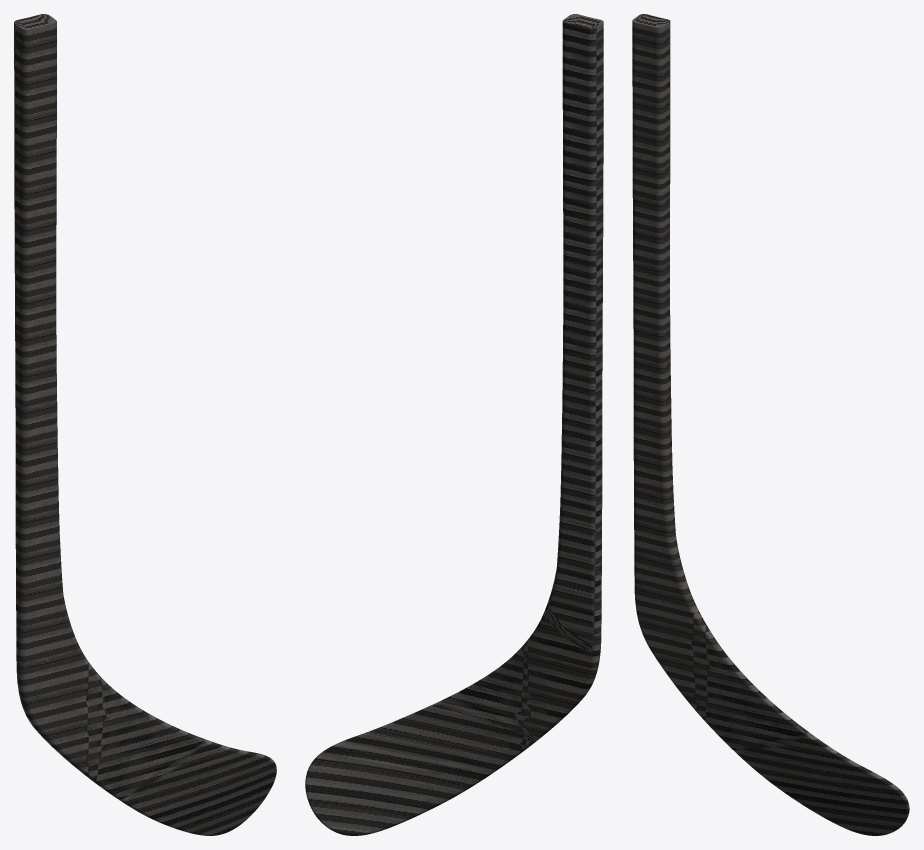
The model's file is P87-SBT.glb.
3 views of the same model, side by side, from view 1: azimuth 30°, elevation 25°; view 2: azimuth 150°, elevation 25°; view 3: azimuth 330°, elevation 25° (orthographic). The views are drawn at different scales.
Visible parts, largest first — view 1: geometry_0; view 2: geometry_0; view 3: geometry_0.
Part boxes in pixels (left/top/right/bottom): geometry_0: left=14, top=14, right=276, bottom=835; geometry_0: left=305, top=14, right=603, bottom=835; geometry_0: left=632, top=14, right=909, bottom=835.
Bounding box in the file's own units: 242 × 724 × 55.62.
Materials: 1 (1 with a texture image).
